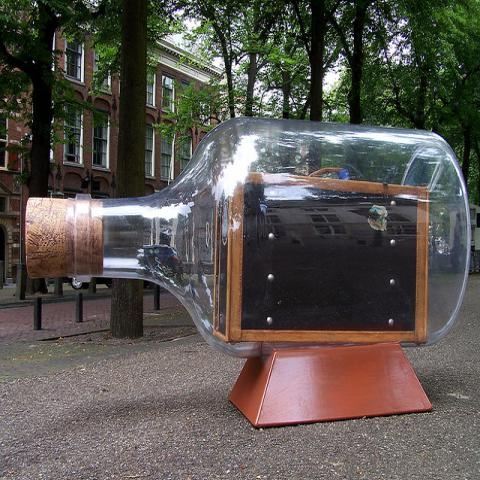car: (144, 245, 181, 277)
